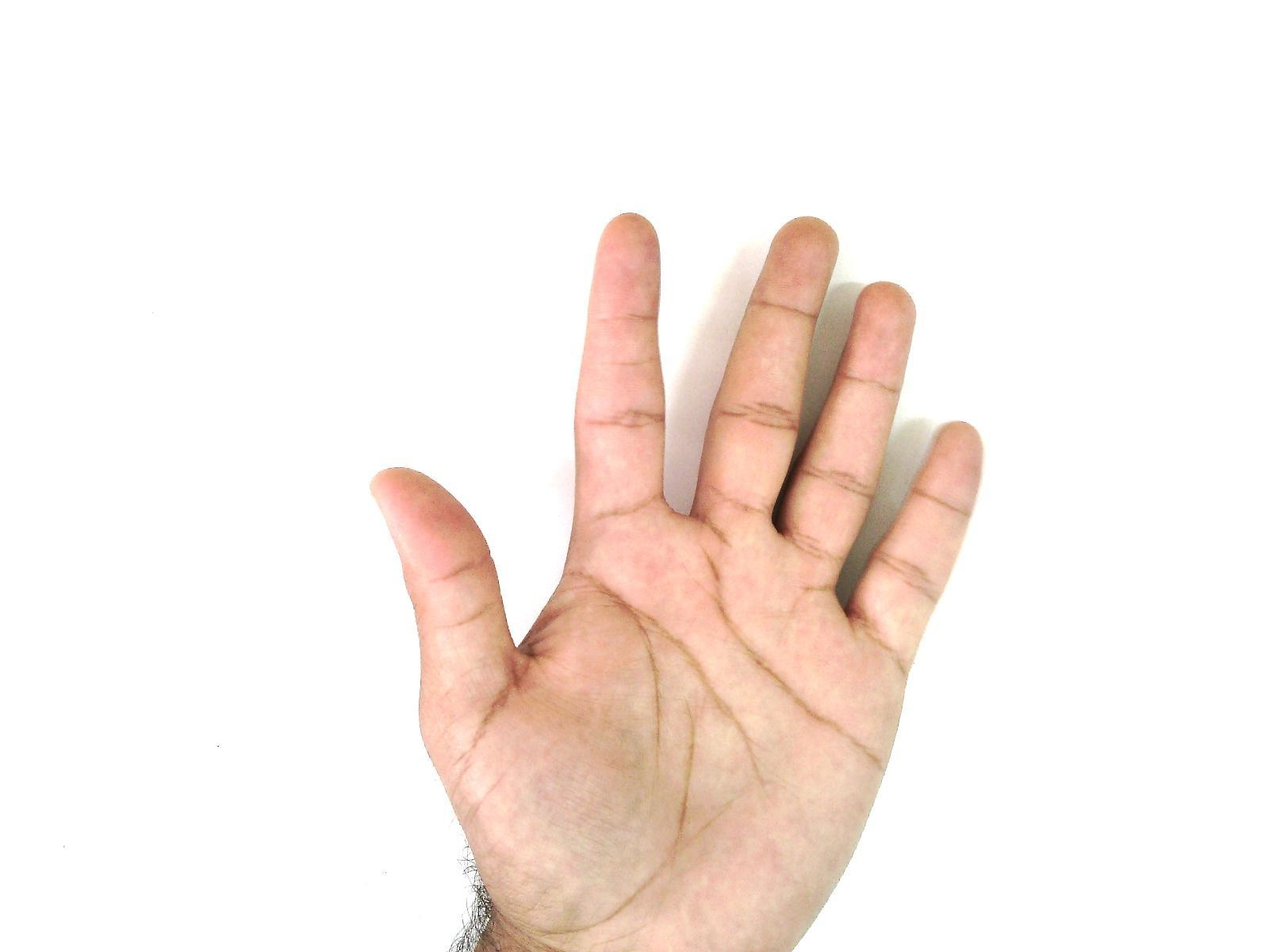open_palm: (368, 210, 987, 951)
